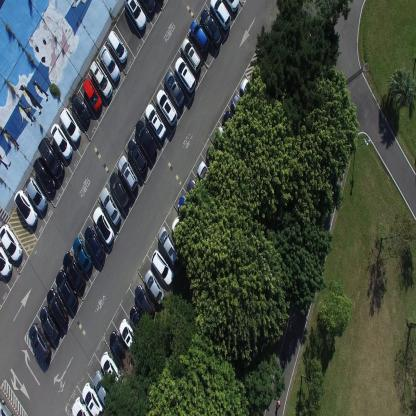car: (37, 137, 64, 180), (55, 268, 78, 311), (62, 250, 86, 291), (92, 368, 115, 410), (13, 189, 38, 227), (92, 205, 115, 246), (32, 156, 56, 195), (90, 58, 112, 100), (28, 322, 51, 362), (100, 351, 123, 391), (200, 8, 222, 49), (98, 44, 121, 83), (135, 118, 157, 158), (46, 287, 68, 327), (158, 225, 180, 265), (24, 176, 48, 212), (156, 88, 178, 127), (144, 102, 166, 141), (100, 187, 122, 226), (151, 249, 174, 286), (84, 225, 106, 263), (0, 223, 22, 261), (117, 155, 138, 194), (109, 171, 130, 210), (127, 138, 149, 175), (174, 56, 196, 93), (164, 70, 184, 110), (72, 235, 93, 273), (39, 305, 60, 343), (128, 303, 150, 339), (50, 123, 72, 159), (144, 268, 164, 307), (181, 37, 202, 74), (134, 284, 156, 319), (82, 77, 102, 115), (222, 110, 243, 146), (119, 318, 140, 354), (109, 330, 130, 366), (189, 18, 210, 54), (107, 30, 128, 66), (123, 0, 147, 31), (60, 107, 80, 144), (82, 382, 104, 415), (70, 91, 90, 127), (232, 92, 251, 128), (177, 196, 197, 229), (240, 76, 259, 110), (210, 0, 230, 32), (186, 179, 205, 212), (214, 126, 232, 158), (196, 161, 215, 190), (171, 216, 188, 246), (206, 145, 224, 173), (0, 242, 13, 278), (71, 397, 91, 415), (138, 0, 155, 17), (0, 397, 14, 415), (224, 0, 240, 14)
